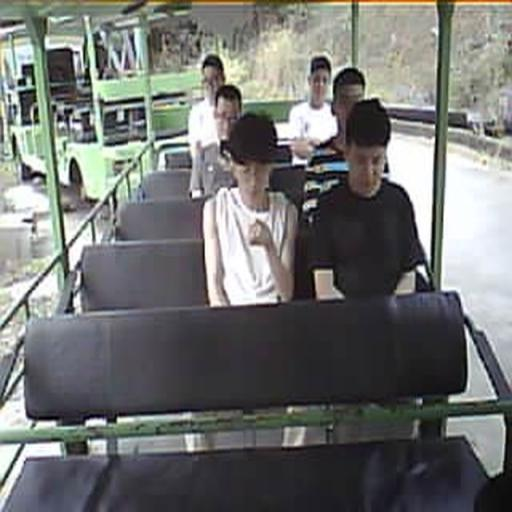persona: (304, 97, 433, 300), (201, 113, 300, 307), (302, 68, 390, 220), (189, 84, 244, 199), (187, 54, 227, 198), (288, 52, 340, 160)
